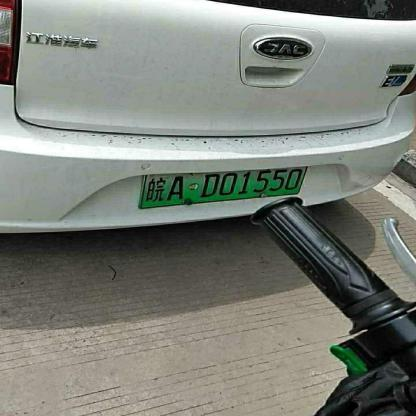lp: (139, 167, 308, 206)
